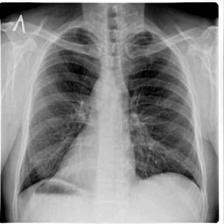tuberculosis: (15, 22, 208, 222)
